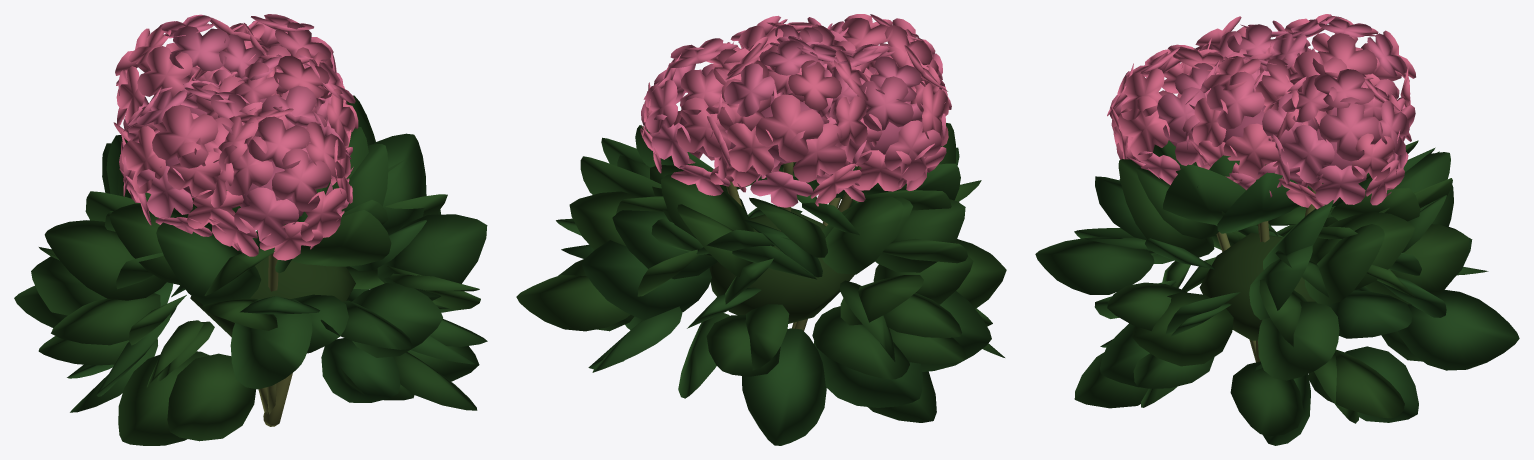
File: potfill_hydrangea_pink.glb
3 renders of one model, left to right at view 1: azimuth 30°, elevation 25°; view 2: azimuth 150°, elevation 25°; view 3: azimuth 270°, elevation 25°, orthographic. The views are drawn at different scales.
Parts seen in each view (by area): view 1: Sammel Pflanze, Sammel Blatt, Sammel Putz; view 2: Sammel Pflanze, Sammel Blatt, Sammel Putz; view 3: Sammel Pflanze, Sammel Blatt, Sammel Putz.
Boxes of the visible parts, x1=… form: Sammel Pflanze: x1=14, y1=14, x2=487, y2=445; Sammel Blatt: x1=190, y1=256, x2=355, y2=336; Sammel Putz: x1=258, y1=253, x2=292, y2=426; Sammel Pflanze: x1=516, y1=14, x2=1006, y2=445; Sammel Blatt: x1=709, y1=209, x2=854, y2=323; Sammel Putz: x1=726, y1=162, x2=861, y2=330; Sammel Pflanze: x1=1035, y1=14, x2=1519, y2=445; Sammel Blatt: x1=1199, y1=233, x2=1315, y2=340; Sammel Putz: x1=1216, y1=188, x2=1315, y2=362.
Size of the model in its own units: 0.5413 by 0.4857 by 0.5717.
